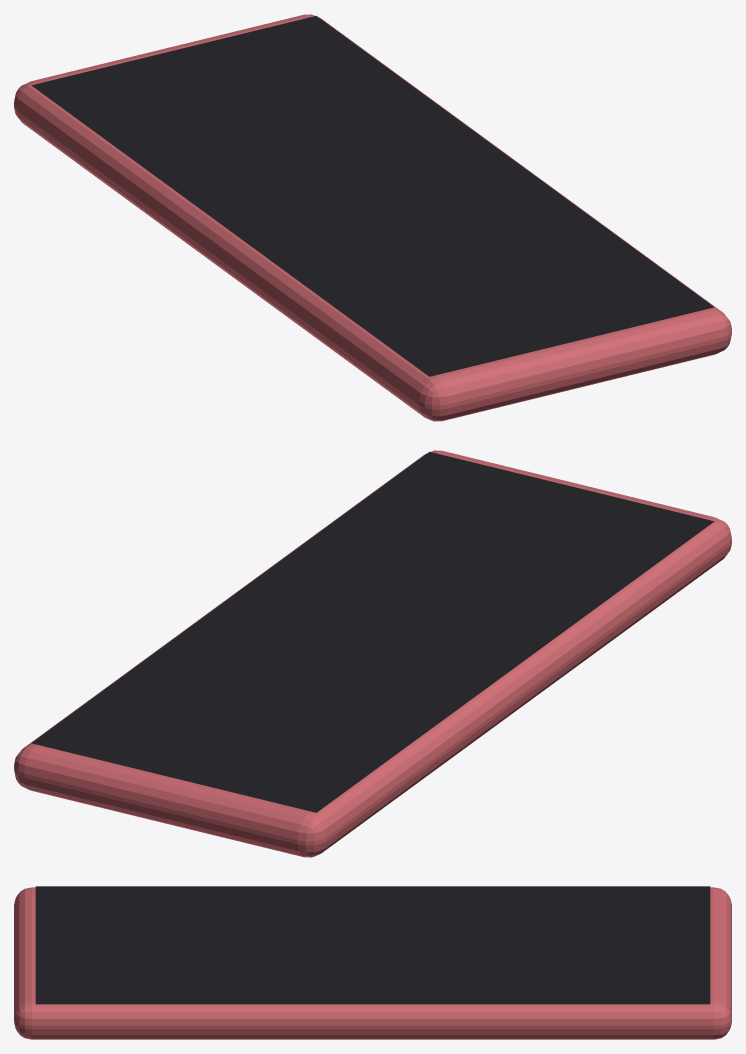
Rendered from oppo-find-x-model-307-budget-2021.glb.
The picture shows the model from 3 angles, top to bottom: view 1: azimuth 30°, elevation 25°; view 2: azimuth 150°, elevation 25°; view 3: azimuth 270°, elevation 25°; orthographic projection. The views are drawn at different scales.
Visible parts, largest first — view 1: Phone_Screen, Phone_Body; view 2: Phone_Screen, Phone_Body; view 3: Phone_Screen, Phone_Body.
Part boxes in pixels (x1,y1,x2,y2): Phone_Screen: (31, 16, 714, 376); Phone_Body: (14, 14, 731, 421); Phone_Screen: (31, 452, 714, 812); Phone_Body: (14, 450, 731, 857); Phone_Screen: (35, 886, 710, 1004); Phone_Body: (14, 887, 731, 1039).
Size of the model in its own units: 0.0712 by 0.0094 by 0.1685.
